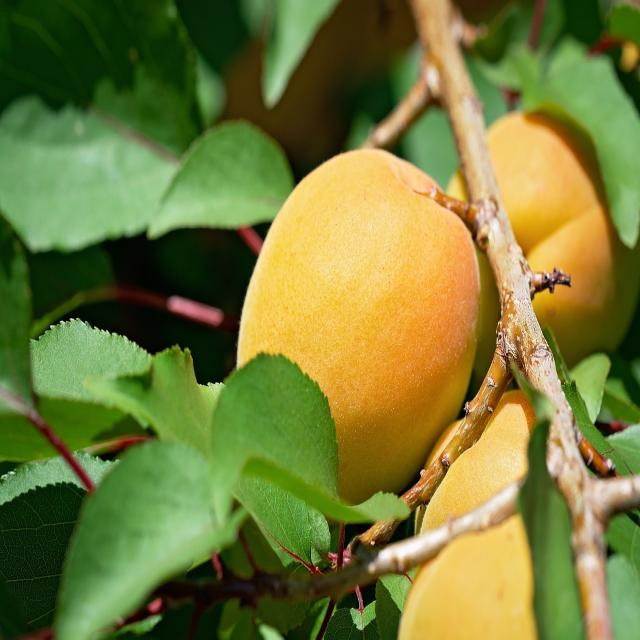kayisi: (250, 171, 504, 492)
kayisi-yapragi: (7, 28, 241, 611)
